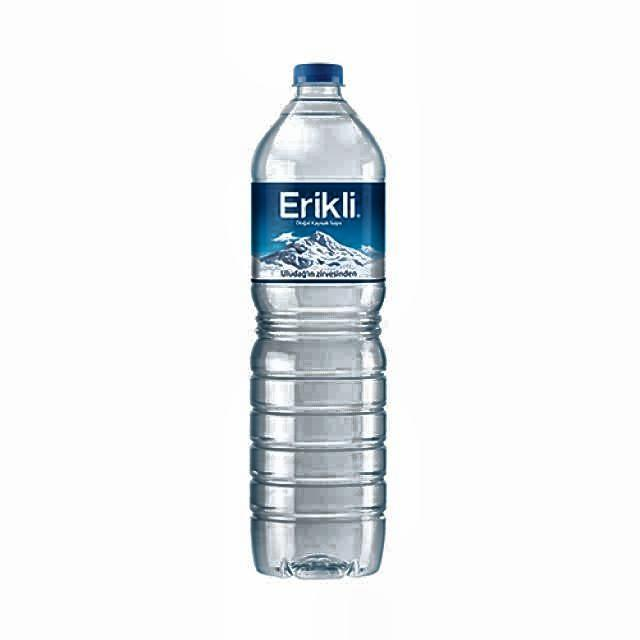plastic: (249, 63, 386, 583)
